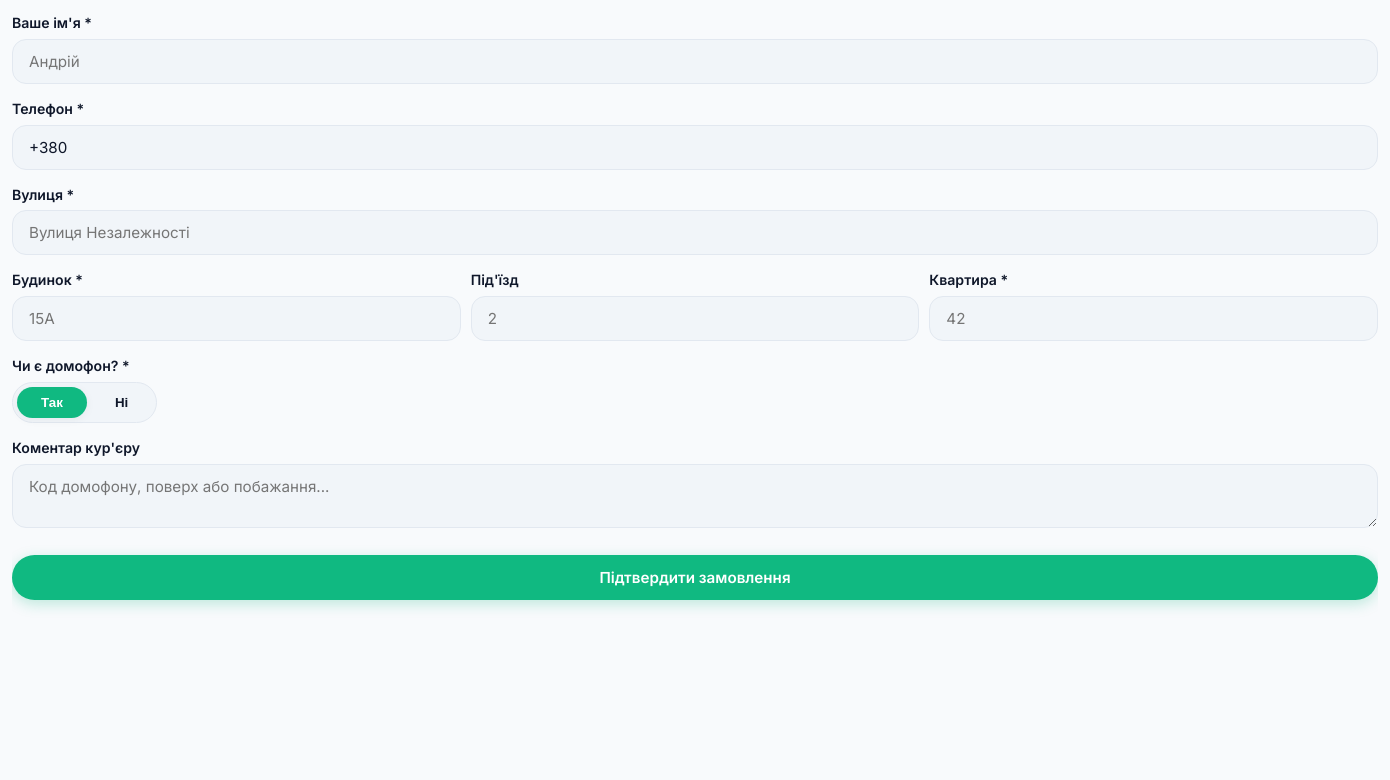
Scenario: Dragon Food — Модульне та компонентне тестування › 3. Показує помилки валідації при спробі відправити порожню форму
Click the button "Підтвердити замовлення": (695, 577) [12, 555, 1378, 600]
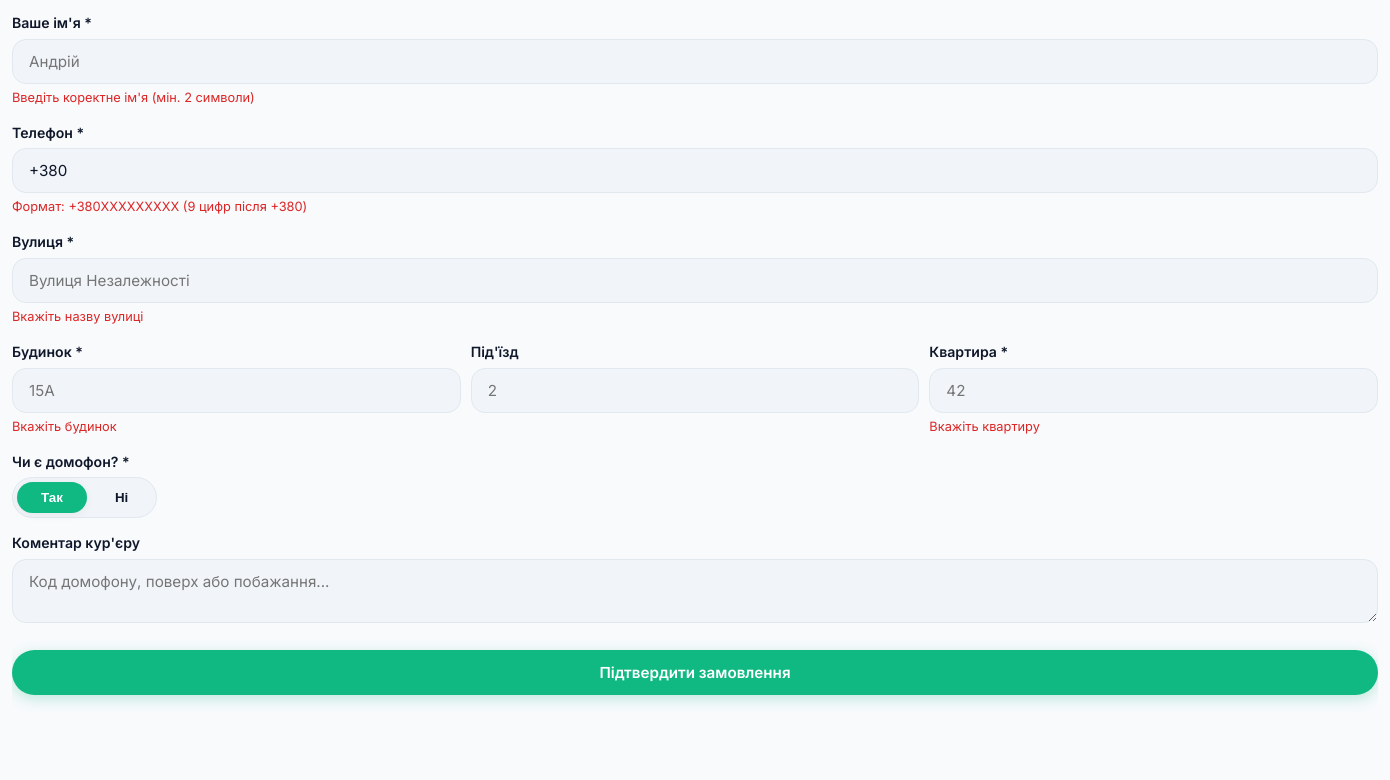
Expected: the text "Введіть коректне ім'я (мін. 2 символи)" is shown, [12, 90, 255, 105]
Expected: the text "Вкажіть назву вулиці" is shown, [12, 309, 143, 324]
